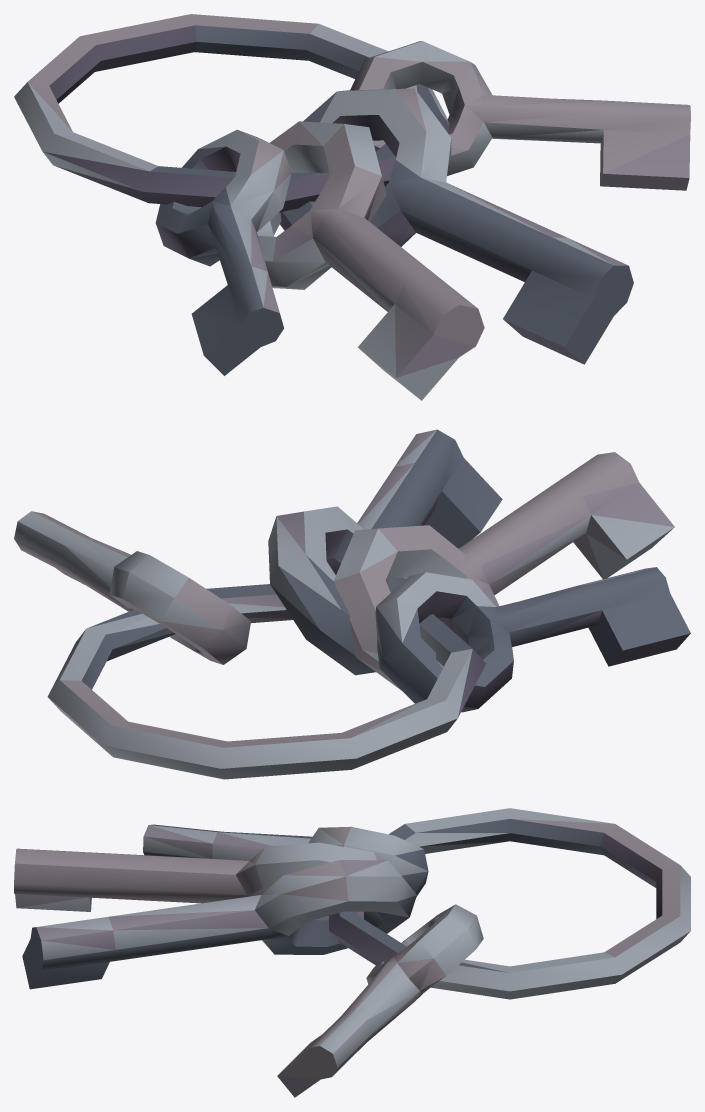
The picture shows the model from 3 angles, top to bottom: view 1: azimuth 30°, elevation 25°; view 2: azimuth 150°, elevation 25°; view 3: azimuth 270°, elevation 25°; orthographic projection. The views are drawn at different scales.
Parts seen in each view (by area): view 1: model; view 2: model; view 3: model.
Boxes of the visible parts, x1,y1,x2,y2 form: model: (14, 14, 690, 400); model: (14, 429, 690, 779); model: (14, 808, 690, 1097).
Size of the model in its own units: 0.7217 by 0.183 by 0.8465.
